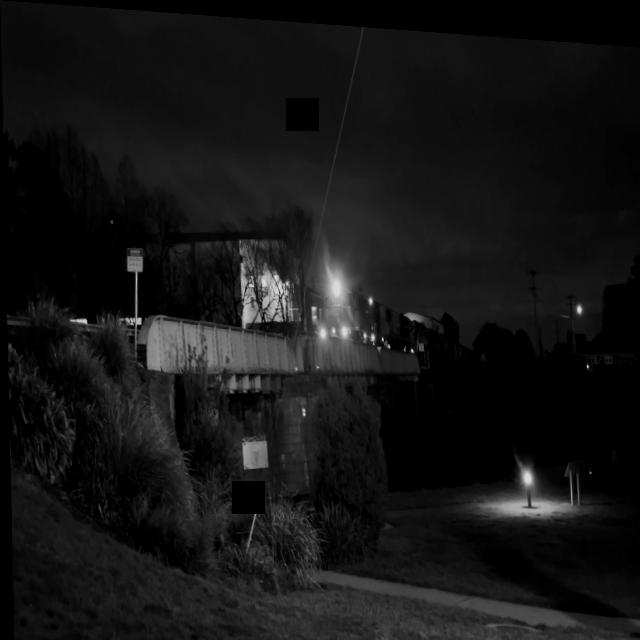locomotive: (314, 272, 376, 342)
